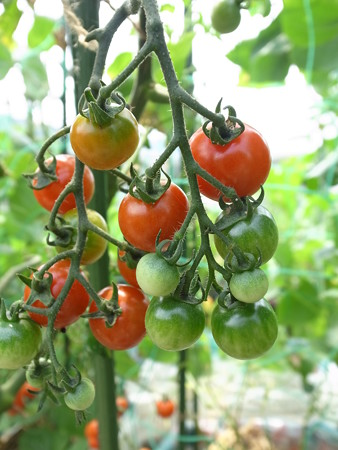stems: (96, 42, 149, 108), (179, 87, 229, 137), (194, 163, 242, 211), (205, 216, 247, 267), (145, 135, 176, 192), (87, 221, 136, 257), (34, 124, 70, 172), (32, 249, 71, 293), (76, 271, 114, 315), (166, 202, 193, 258), (46, 182, 72, 236), (214, 261, 241, 303), (180, 248, 202, 298), (8, 300, 48, 318)
tomato: (183, 116, 272, 202), (118, 180, 190, 253), (71, 106, 139, 171), (210, 295, 278, 360), (214, 203, 280, 269), (24, 260, 89, 327), (86, 284, 148, 349), (32, 154, 95, 215), (145, 291, 203, 351), (55, 208, 108, 265), (1, 312, 43, 370), (136, 251, 181, 299), (117, 240, 148, 291), (229, 268, 270, 304), (64, 376, 95, 410), (26, 357, 56, 390)
